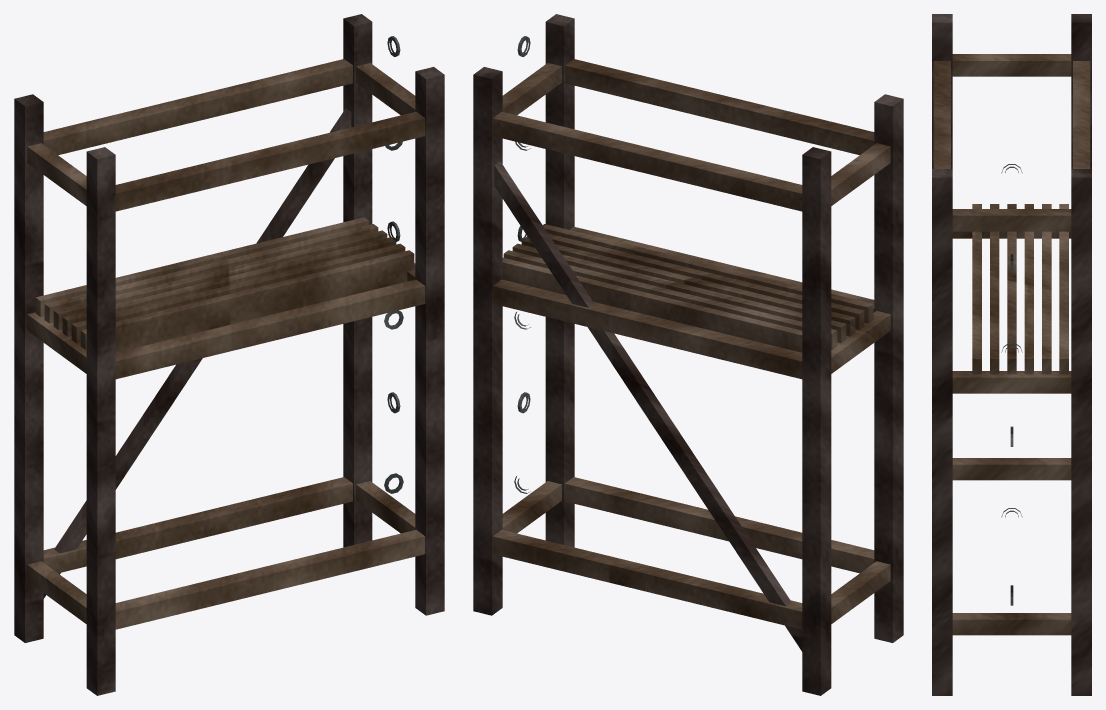
The model's file is 0449_scaffolding_24.glb.
The picture shows the model from 3 angles, left to right: view 1: azimuth 30°, elevation 25°; view 2: azimuth 150°, elevation 25°; view 3: azimuth 270°, elevation 25°; orthographic projection. The views are drawn at different scales.
Visible parts, largest first — view 1: wood, wood_dark, iron; view 2: wood, wood_dark, iron; view 3: wood, wood_dark, iron.
Boxes of the visible parts, x1,y1,x2,y2 form: wood: (27,59,425,629); wood_dark: (14,14,444,695); iron: (384,36,403,493); wood: (492,59,890,629); wood_dark: (473,14,903,695); iron: (514,36,530,493); wood: (933,54,1090,635); wood_dark: (932,14,1091,695); iron: (1001,164,1022,605).
Bounding box in the file's own units: 2.45 × 3.67 × 1.01.
3 materials, 3 textured.
